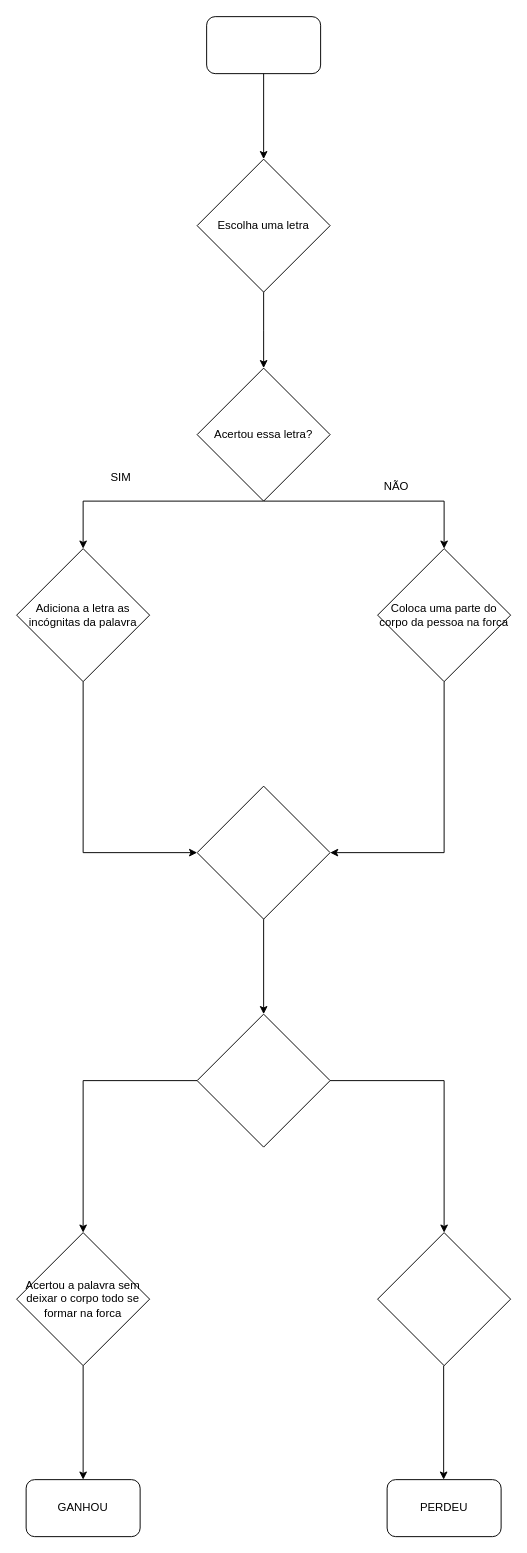
The diagram is 527 pixels wide and 1553 high, and some of its shapes have lost their labels. Each missing label, with the centre of its shape:
"Acertou essa letra? (Assim por diante)" goes at point 263,1080.
"Escolha outra letra: (Assim por diante)" goes at point 263,852.
"Se errar um numero X de vezes, por exemplo 6" goes at point 444,1299.
"Start" goes at point 263,45.
